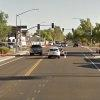Car: (23, 38, 63, 60)
